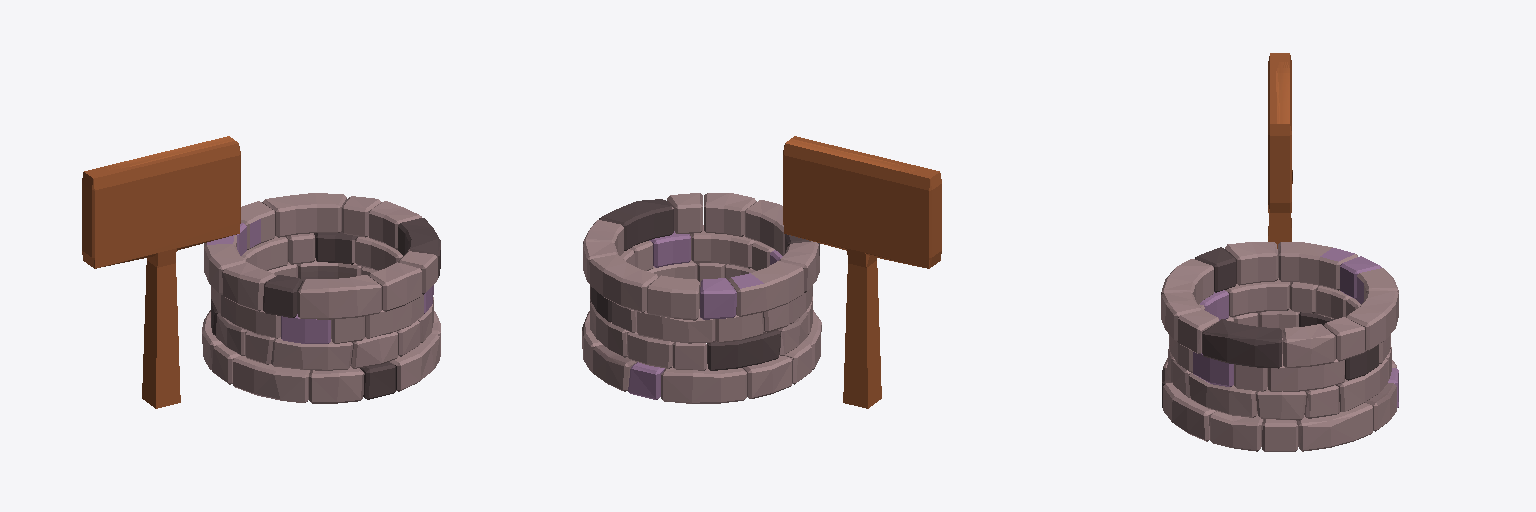
The picture shows the model from 3 angles: view 1: azimuth 30°, elevation 25°; view 2: azimuth 150°, elevation 25°; view 3: azimuth 270°, elevation 25°; orthographic projection.
Parts seen in each view (by area): view 1: Cube.003, 立方体; view 2: Cube.003, 立方体; view 3: Cube.003, 立方体.
Boxes of the visible parts, x1,y1,x2,y2 form: Cube.003: [202, 193, 440, 403]; 立方体: [82, 136, 240, 408]; Cube.003: [582, 193, 821, 403]; 立方体: [783, 136, 941, 408]; Cube.003: [1161, 242, 1398, 451]; 立方体: [1268, 53, 1292, 248].
Size of the model in its own units: 4.92 by 3.38 by 2.99.
Materials: 2 (1 with a texture image).